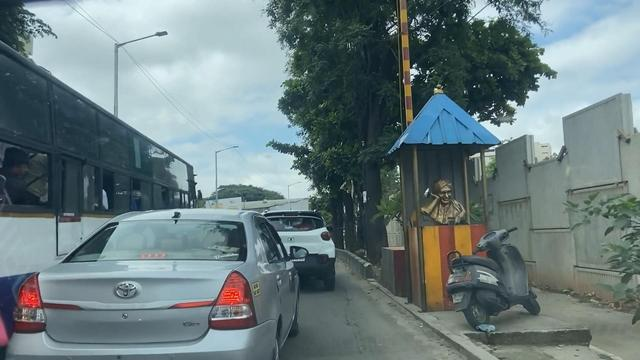LMV: (33, 211, 281, 360), (439, 241, 538, 323)
